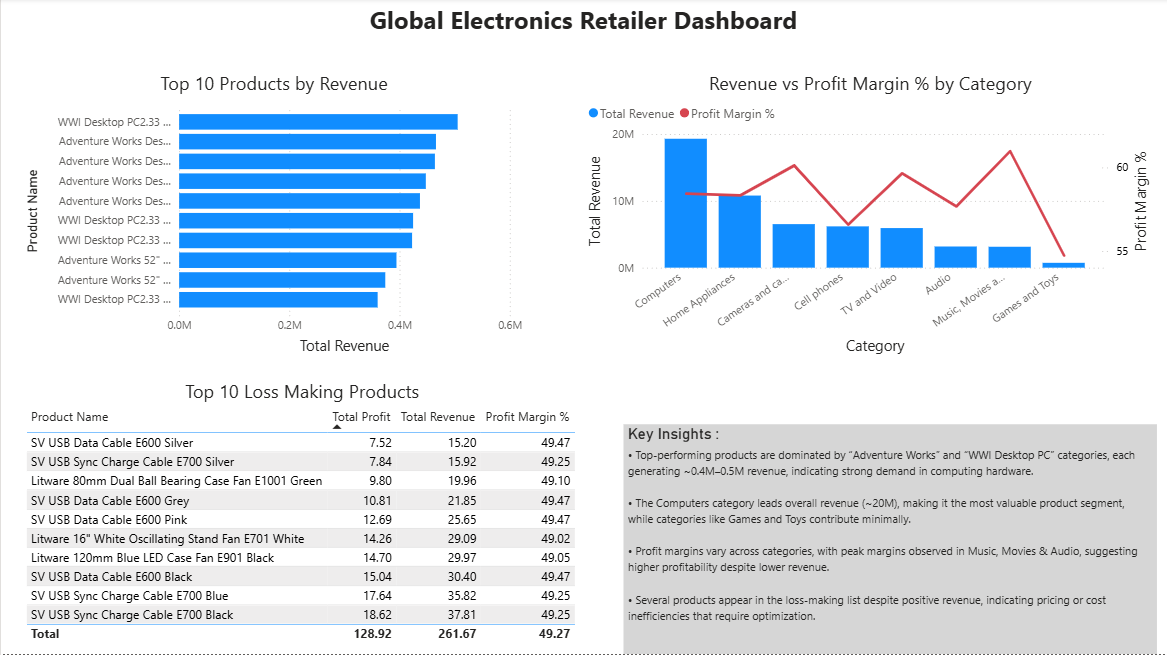

This screenshot's page, from the dashboard's own definition file:
{"tool":"powerbi","page":{"name":"Page 2","canvas":[1280,720],"ordinal":1},"visuals":[{"type":"textbox","box":[385.6,0,507.7,64.5],"z":0},{"type":"barChart","title":"Top 10 Products by Revenue","fields":{"Category":["Global_Electronics_Retailers_master_dataset.Product Name"],"Y":["Global_Electronics_Retailers_master_dataset.Total Revenue"]},"box":[22,79.6,555.7,317],"z":1000},{"type":"lineStackedColumnComboChart","title":"Revenue vs Profit Margin % by Category","fields":{"Category":["Global_Electronics_Retailers_master_dataset.Category"],"Y":["Global_Electronics_Retailers_master_dataset.Total Revenue"],"Y2":["Global_Electronics_Retailers_master_dataset.Profit Margin %"]},"box":[639.5,79.6,629.8,317],"z":2000},{"type":"tableEx","title":"Top 10 Loss Making Products","fields":{"Values":["Global_Electronics_Retailers_master_dataset.Product Name","Global_Electronics_Retailers_master_dataset.Total Profit","Global_Electronics_Retailers_master_dataset.Total Revenue","Global_Electronics_Retailers_master_dataset.Profit Margin %"]},"box":[22,417.2,617.5,303.3],"z":3000},{"type":"textbox","title":"Key Insights :","box":[683.4,467.9,585.9,252.5],"z":4000}]}

Visuals, with their boxes in screenshot pixels (x1, y1, x2, y2), scaled from the page's 1280x720 canvas onto the 1167x655 screenshot:
textbox: detection(352, 0, 814, 59)
"Top 10 Products by Revenue" barChart: detection(20, 72, 527, 361)
"Revenue vs Profit Margin % by Category" lineStackedColumnComboChart: detection(583, 72, 1157, 361)
"Top 10 Loss Making Products" tableEx: detection(20, 380, 583, 654)
"Key Insights :" textbox: detection(623, 426, 1157, 654)
